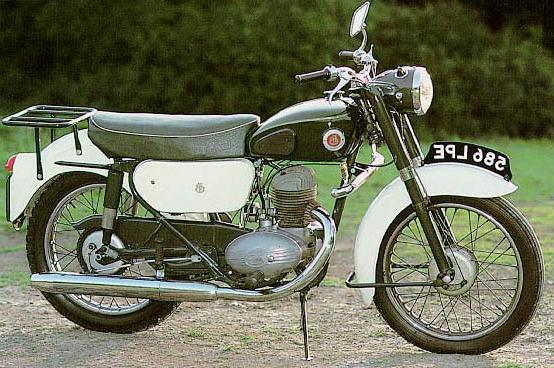motorcycle: (9, 9, 553, 366)
